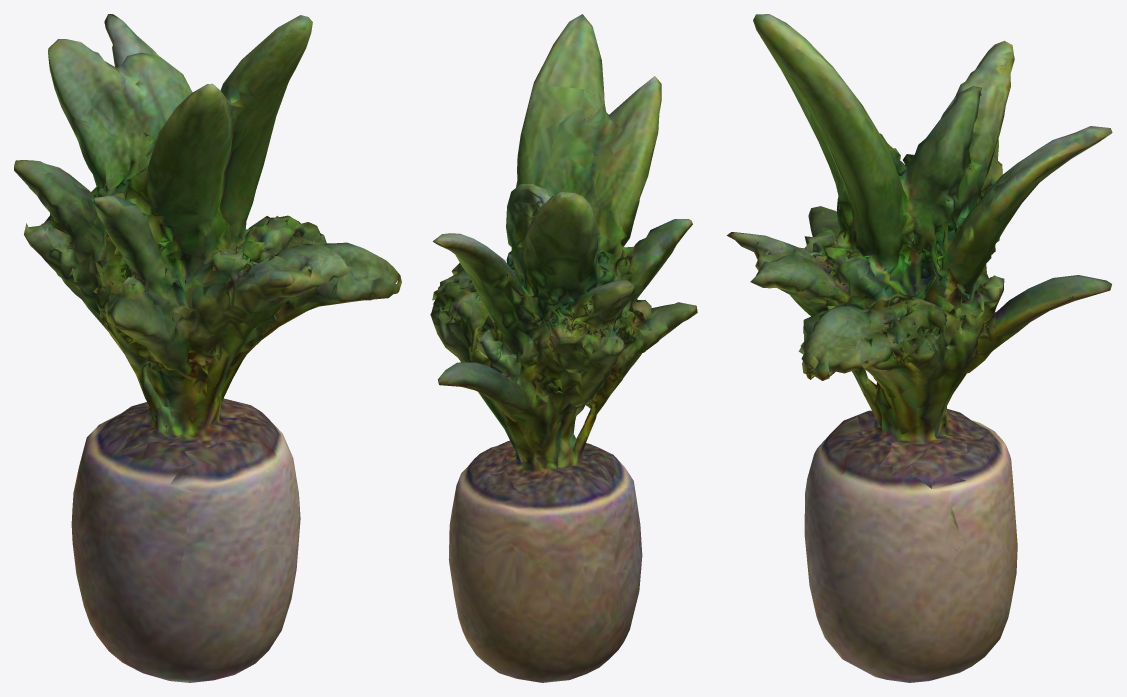
Rendered from plant1.fbx.
The picture shows the model from 3 angles, left to right: view 1: azimuth 30°, elevation 25°; view 2: azimuth 150°, elevation 25°; view 3: azimuth 270°, elevation 25°; orthographic projection. The views are drawn at different scales.
Parts seen in each view (by area): view 1: Mesh1; view 2: Mesh1; view 3: Mesh1.
Boxes of the visible parts, box(x1,y1,x2,y2) form: Mesh1: box(14, 14, 401, 682); Mesh1: box(430, 14, 697, 682); Mesh1: box(726, 14, 1112, 682).
Size of the model in its own units: 53.73 by 120 by 62.47.
1 material, 1 textured.
